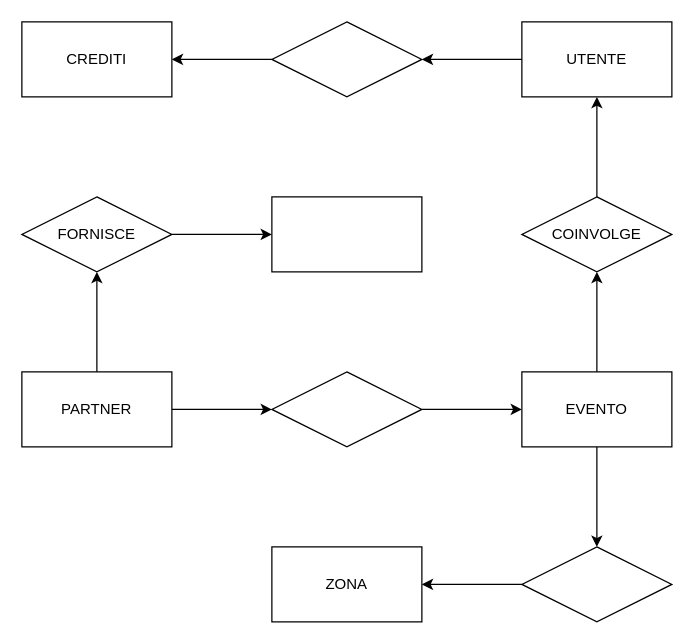
Image size: 694x644. Some labels were removed from this diagram. Each missing label, with the box of its shape:
LOCAZIONE: (521, 546, 672, 622)
MEZZO: (271, 196, 422, 272)
ORGANIZZA: (271, 371, 422, 447)
RICEVE: (271, 21, 422, 97)
